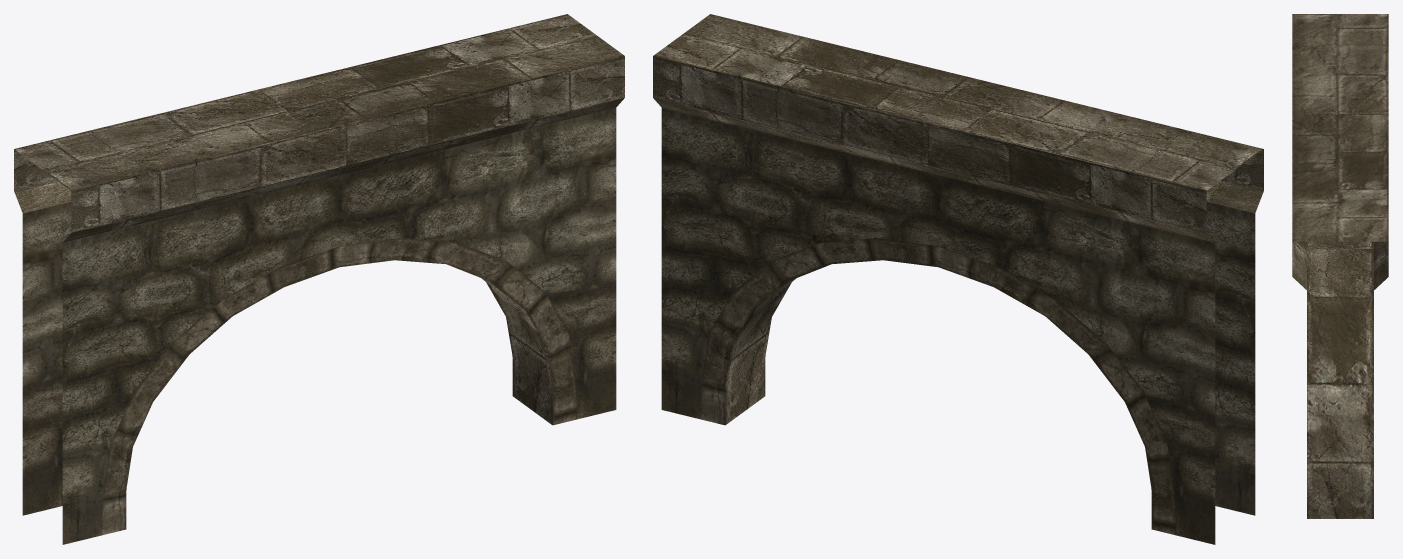
The model's file is welder_convex_arch_01.DAE.
3 renders of one model, left to right at view 1: azimuth 30°, elevation 25°; view 2: azimuth 150°, elevation 25°; view 3: azimuth 270°, elevation 25°, orthographic. The views are drawn at different scales.
Visible parts, largest first — view 1: Box003; view 2: Box003; view 3: Box003.
Boxes of the visible parts, bbox=[...] form: Box003: bbox=[14, 14, 624, 544]; Box003: bbox=[653, 14, 1263, 544]; Box003: bbox=[1292, 14, 1388, 518].
Size of the model in its own units: 4 by 2.49 by 0.717.
